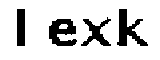e: (43, 17, 79, 50)
k: (114, 4, 150, 51)
l: (9, 6, 35, 57)
x: (82, 16, 111, 48)
